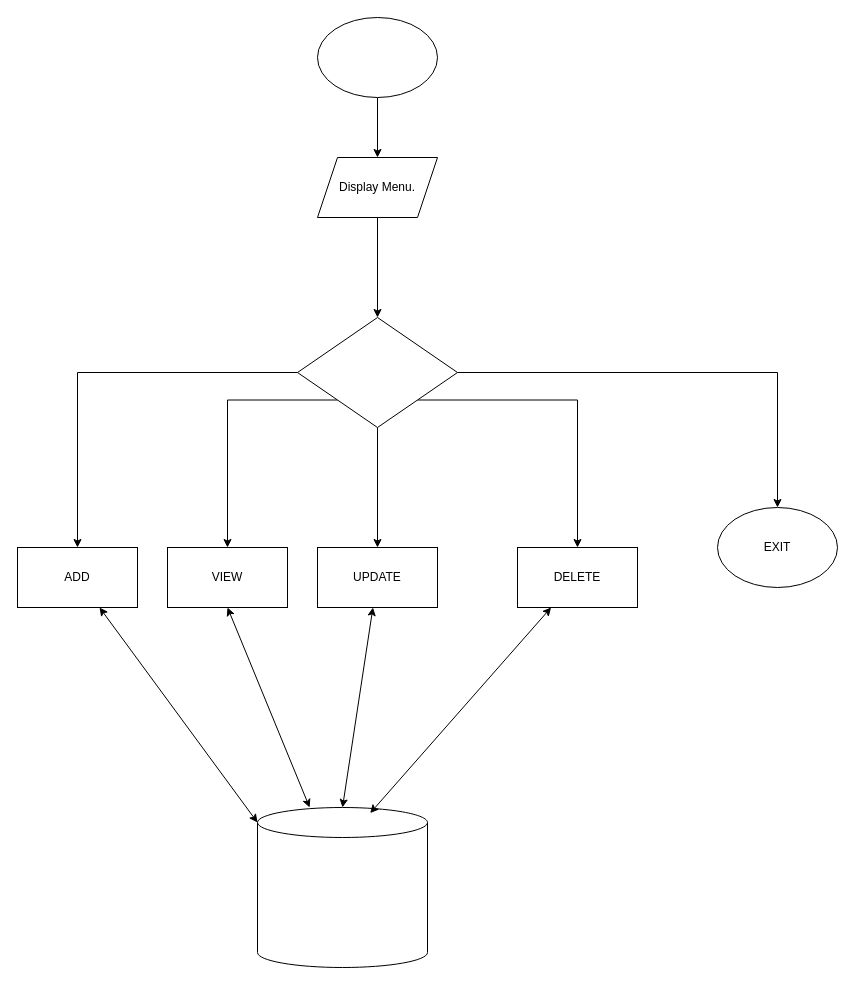
Some shapes in this 855 by 985 pixel diagram are drawn without their labels. The shapes that lost their labels are listed below. From the top down, each one's centre as x and y in pixels, then its label:
At pixel 377 57: "start".
At pixel 377 372: "User selects menu option".
